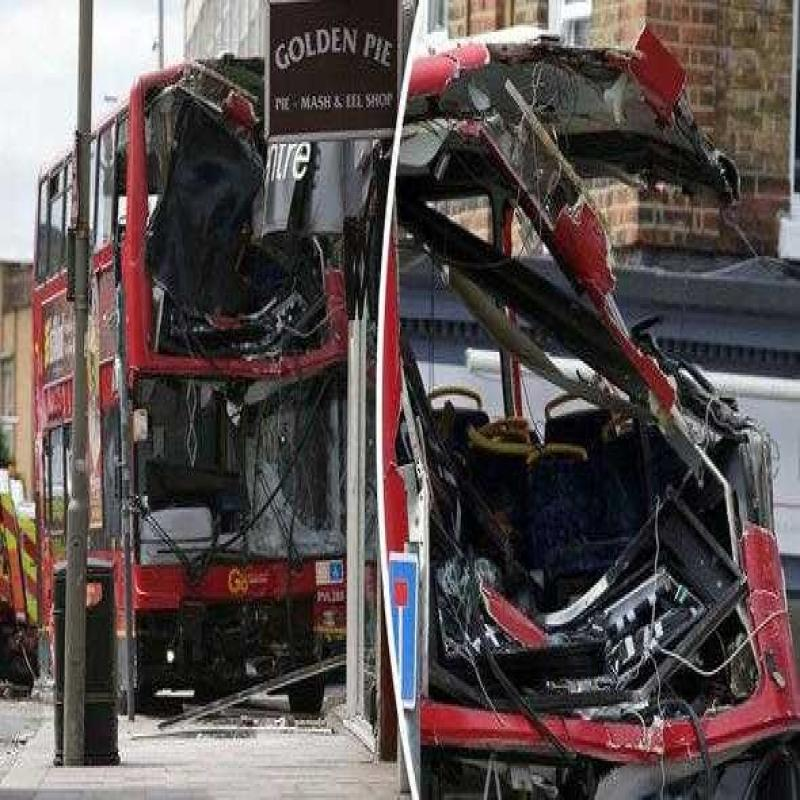bus: (27, 60, 358, 726)
